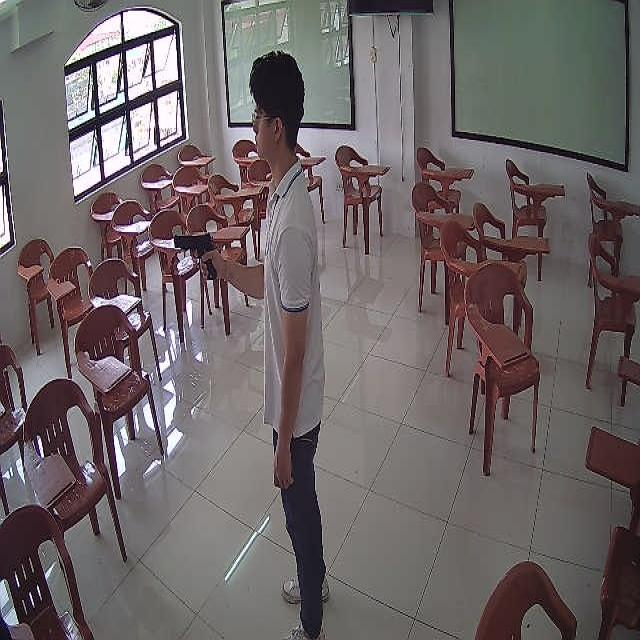pistol: (174, 233, 216, 280)
